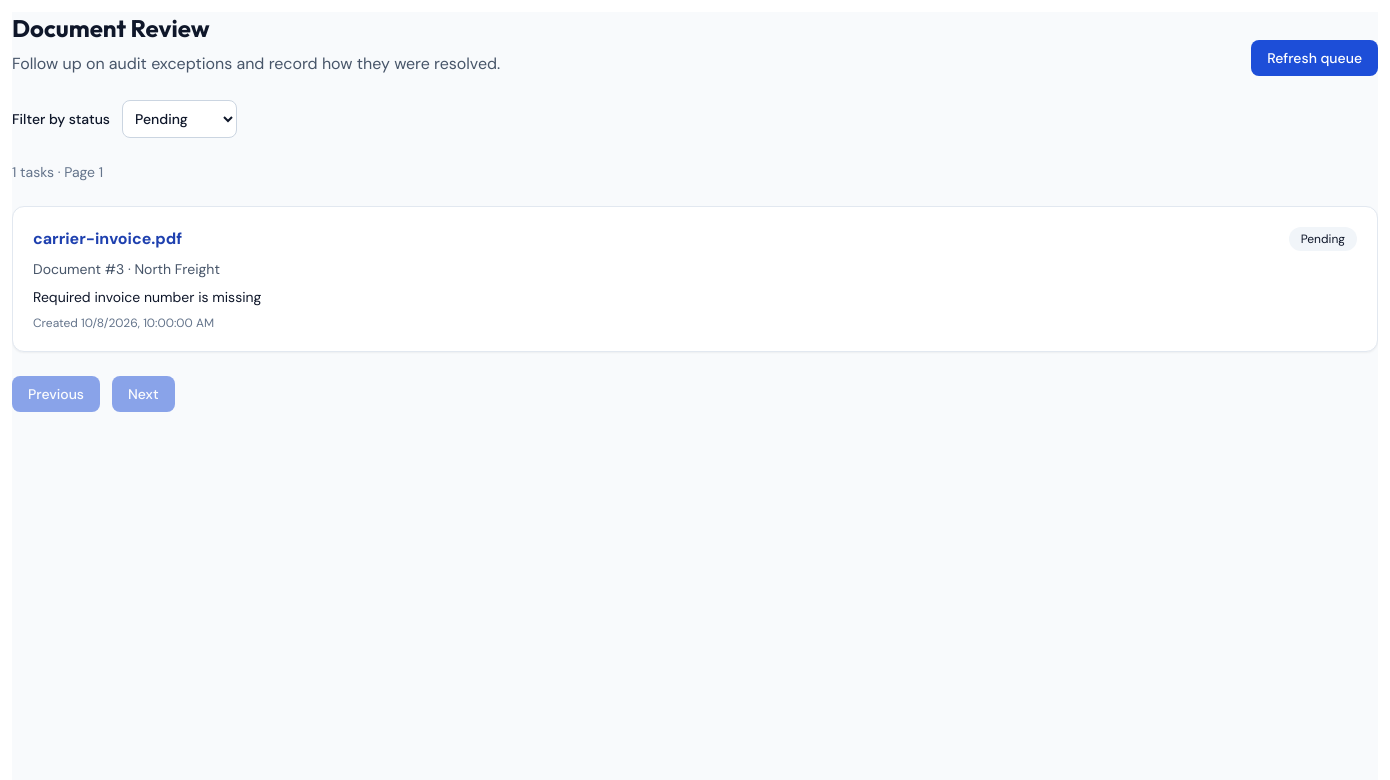
Test: document review workflow › keeps operator notes visible after a failed save
Click the button "carrier-invoice.pdf": (695, 279) [12, 206, 1378, 352]
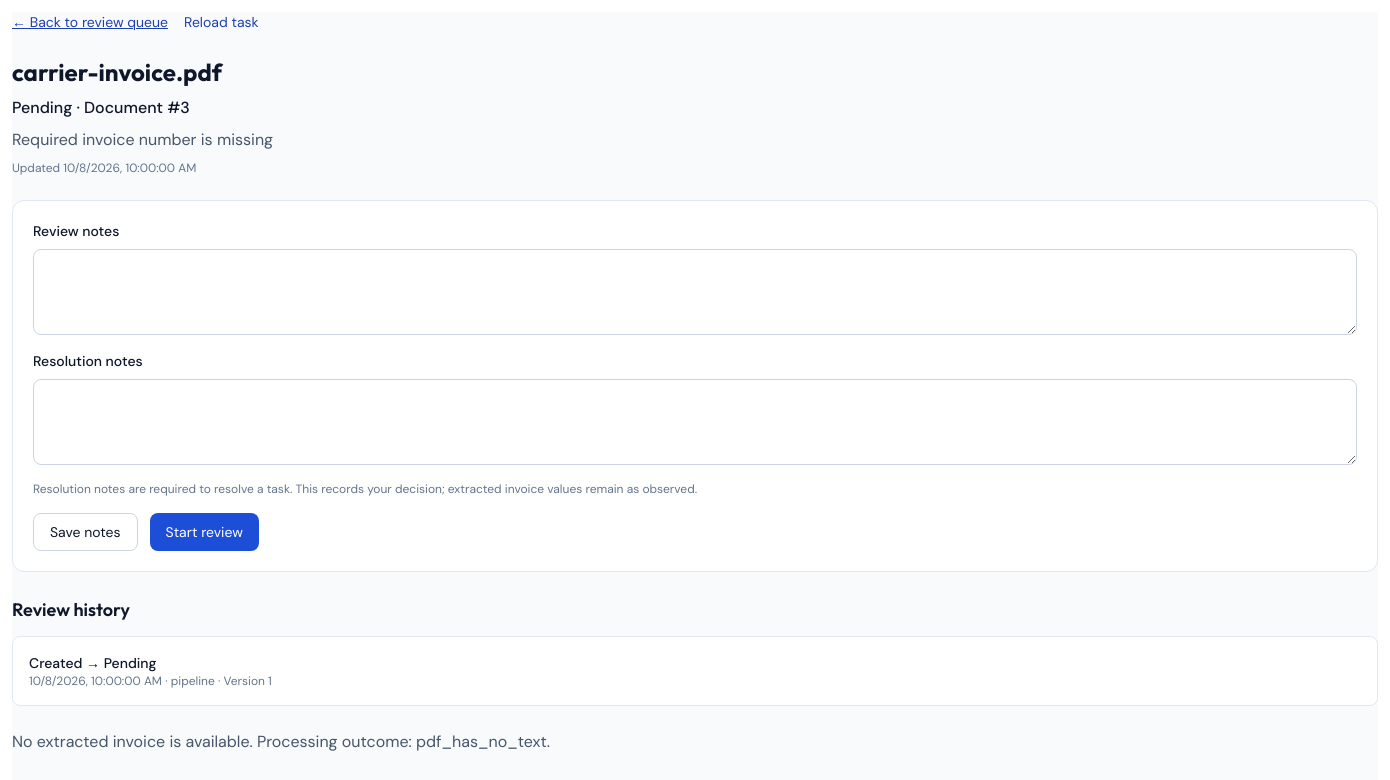
Now the button "Start review" is shown, box [150, 513, 259, 551]
In the text box labelled "Review notes": (695, 292) [33, 249, 1357, 335], type "Do not lose this note"
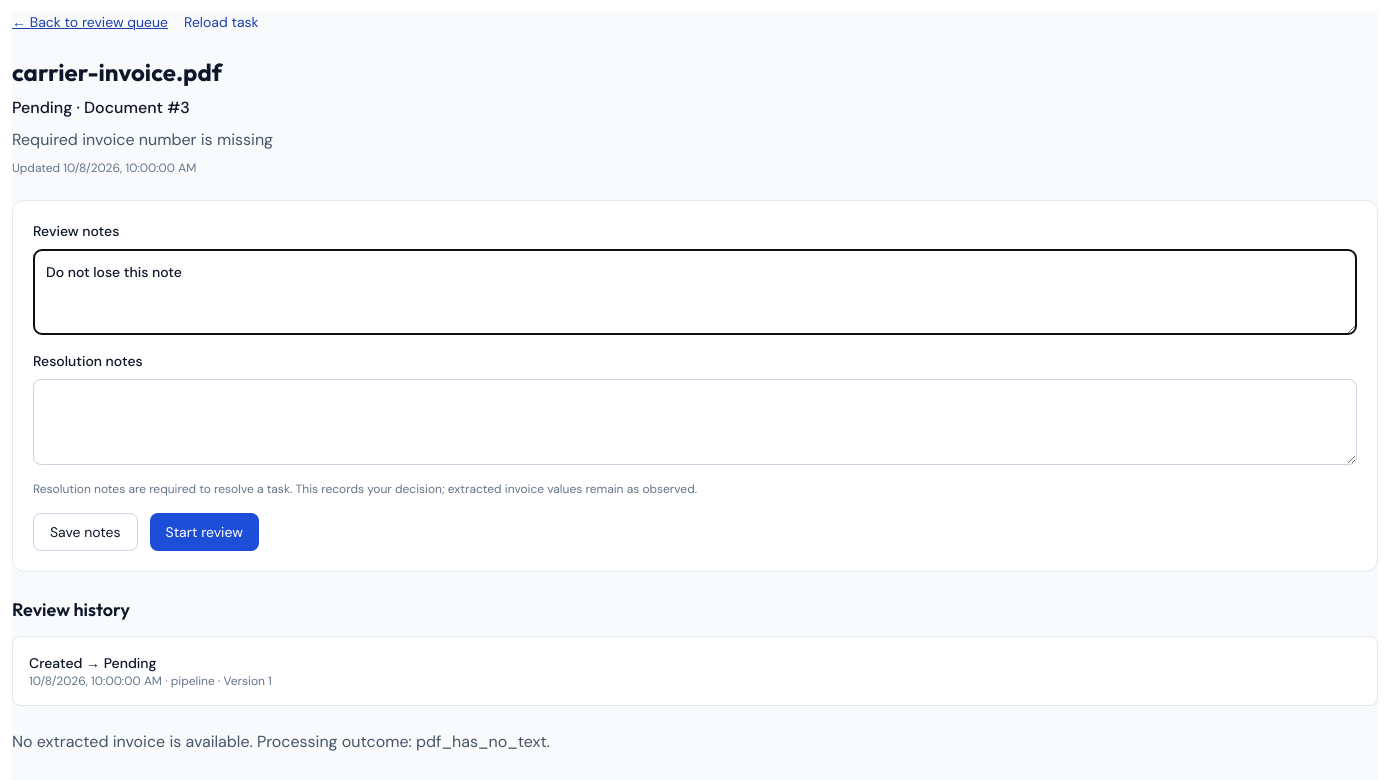
Click the button "Save notes": (85, 532) [33, 513, 138, 551]
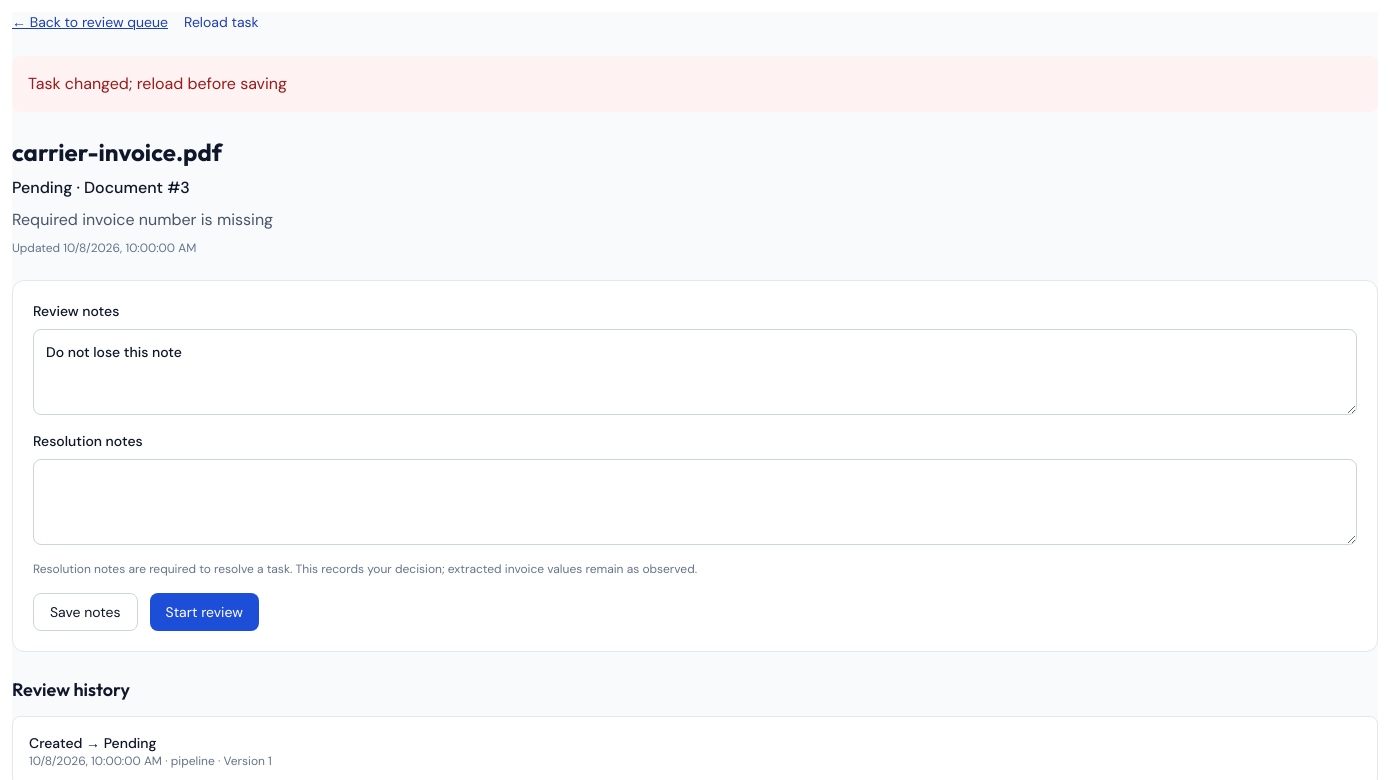
Now the message shows "reload before saving", box [28, 73, 287, 94]
